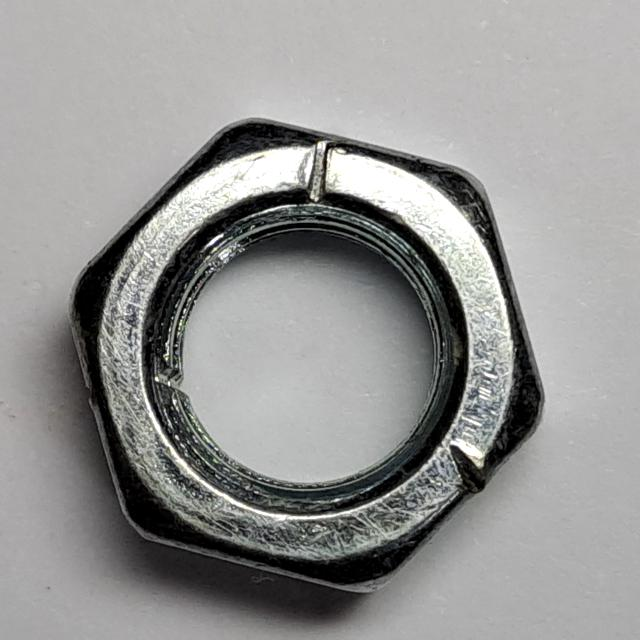Scratches: (53, 111, 561, 612)
